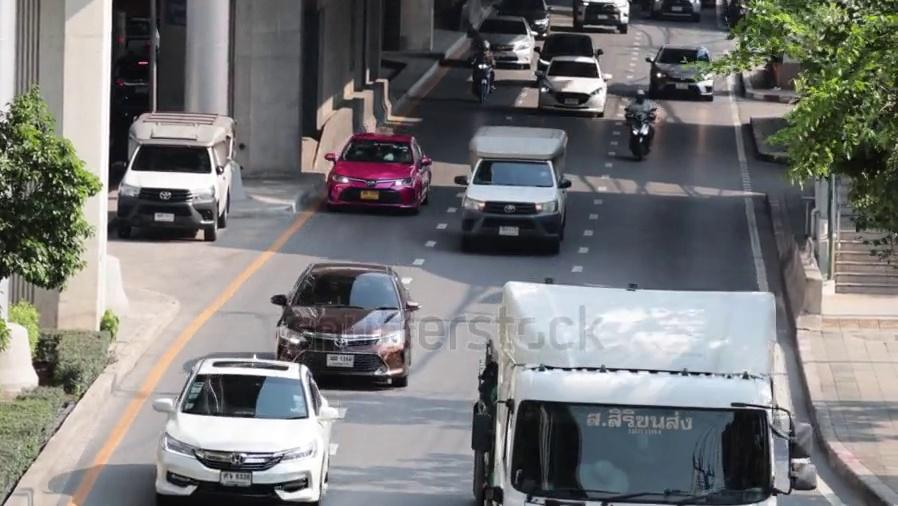rider: (623, 88, 658, 160), (470, 39, 496, 103)
with_helmate: (629, 89, 646, 104), (479, 43, 491, 54)
